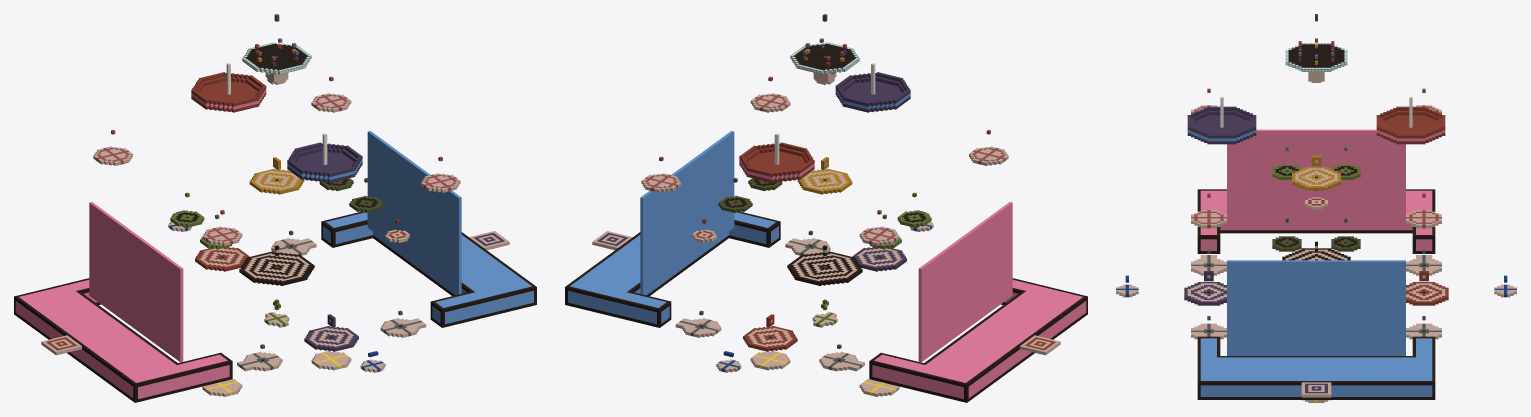
File: minecraft.obj
3 views of the same model, side by side, from view 1: azimuth 30°, elevation 25°; view 2: azimuth 150°, elevation 25°; view 3: azimuth 270°, elevation 25° (orthographic).
Bounding box in the file's own units: 1580 × 1200 × 1230.
